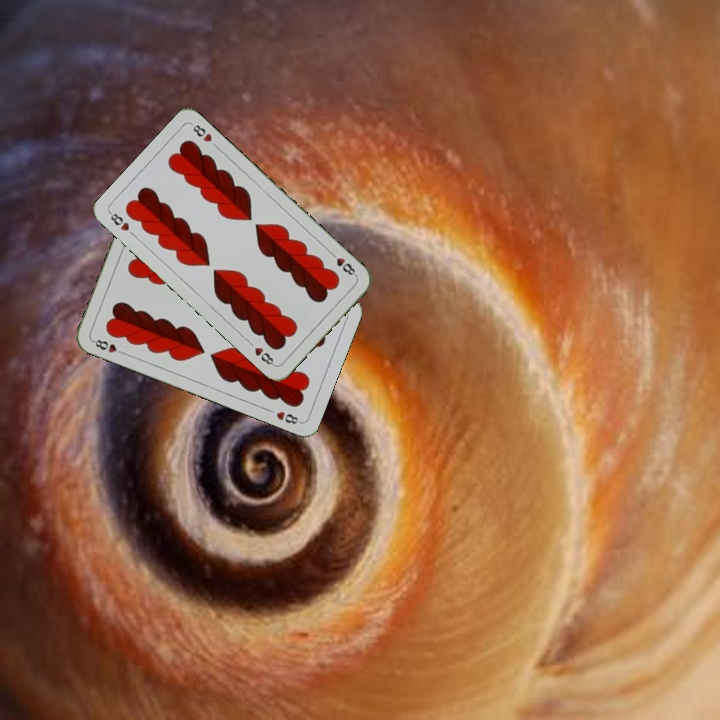H8: (105, 208, 139, 240), (326, 248, 359, 279), (89, 335, 128, 357)
